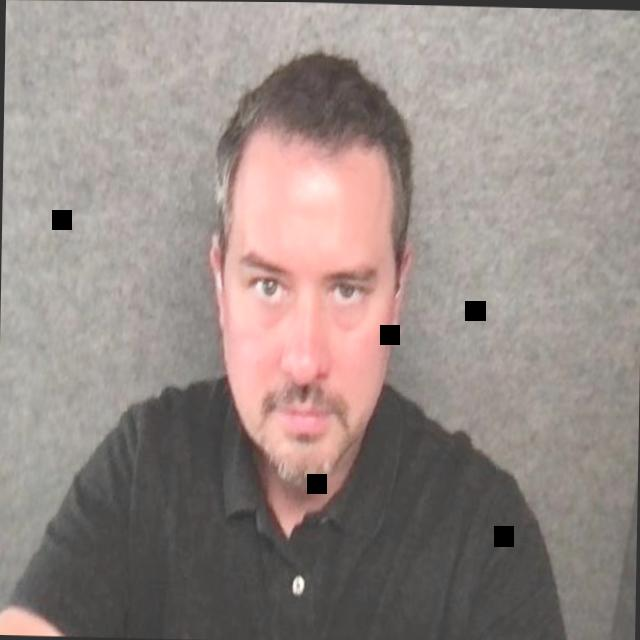NO-Mask: (203, 45, 418, 491)
